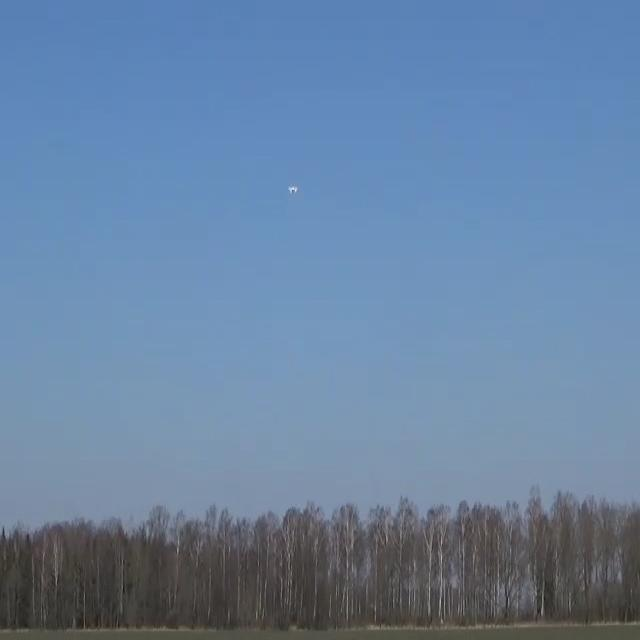drone: (289, 186, 298, 194)
